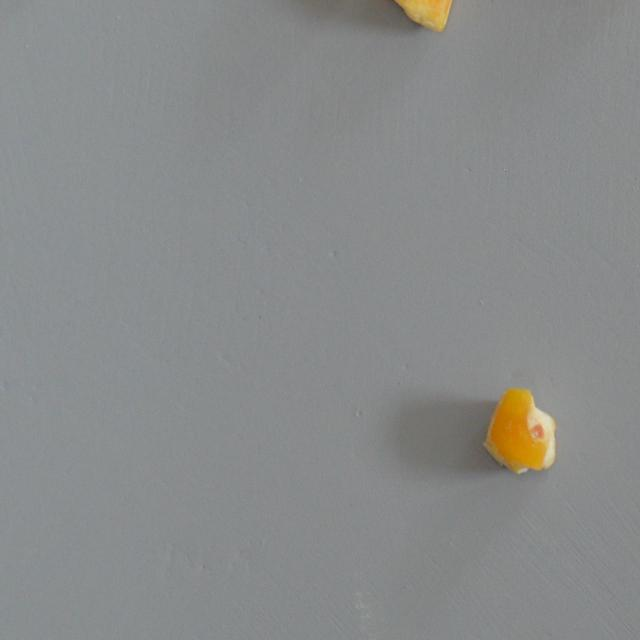dañado: (469, 382, 572, 478)
pelicula: (377, 0, 464, 32)
